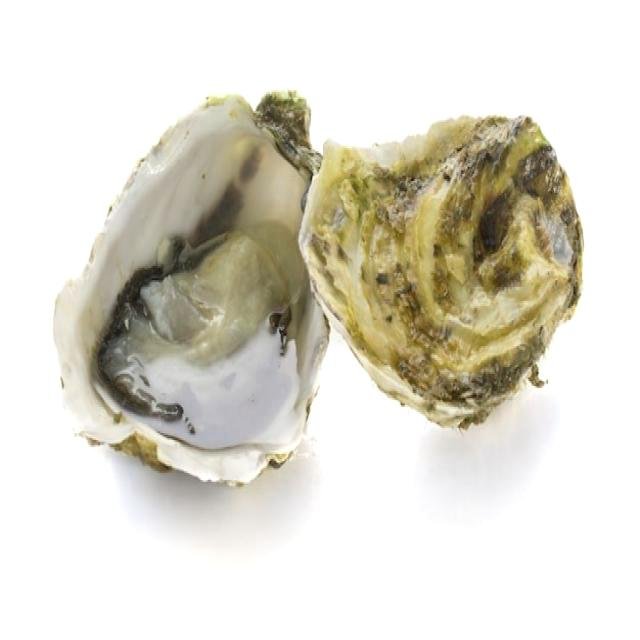Oyster-Closed: (297, 115, 584, 432)
Oyster-Open: (52, 91, 331, 489)
